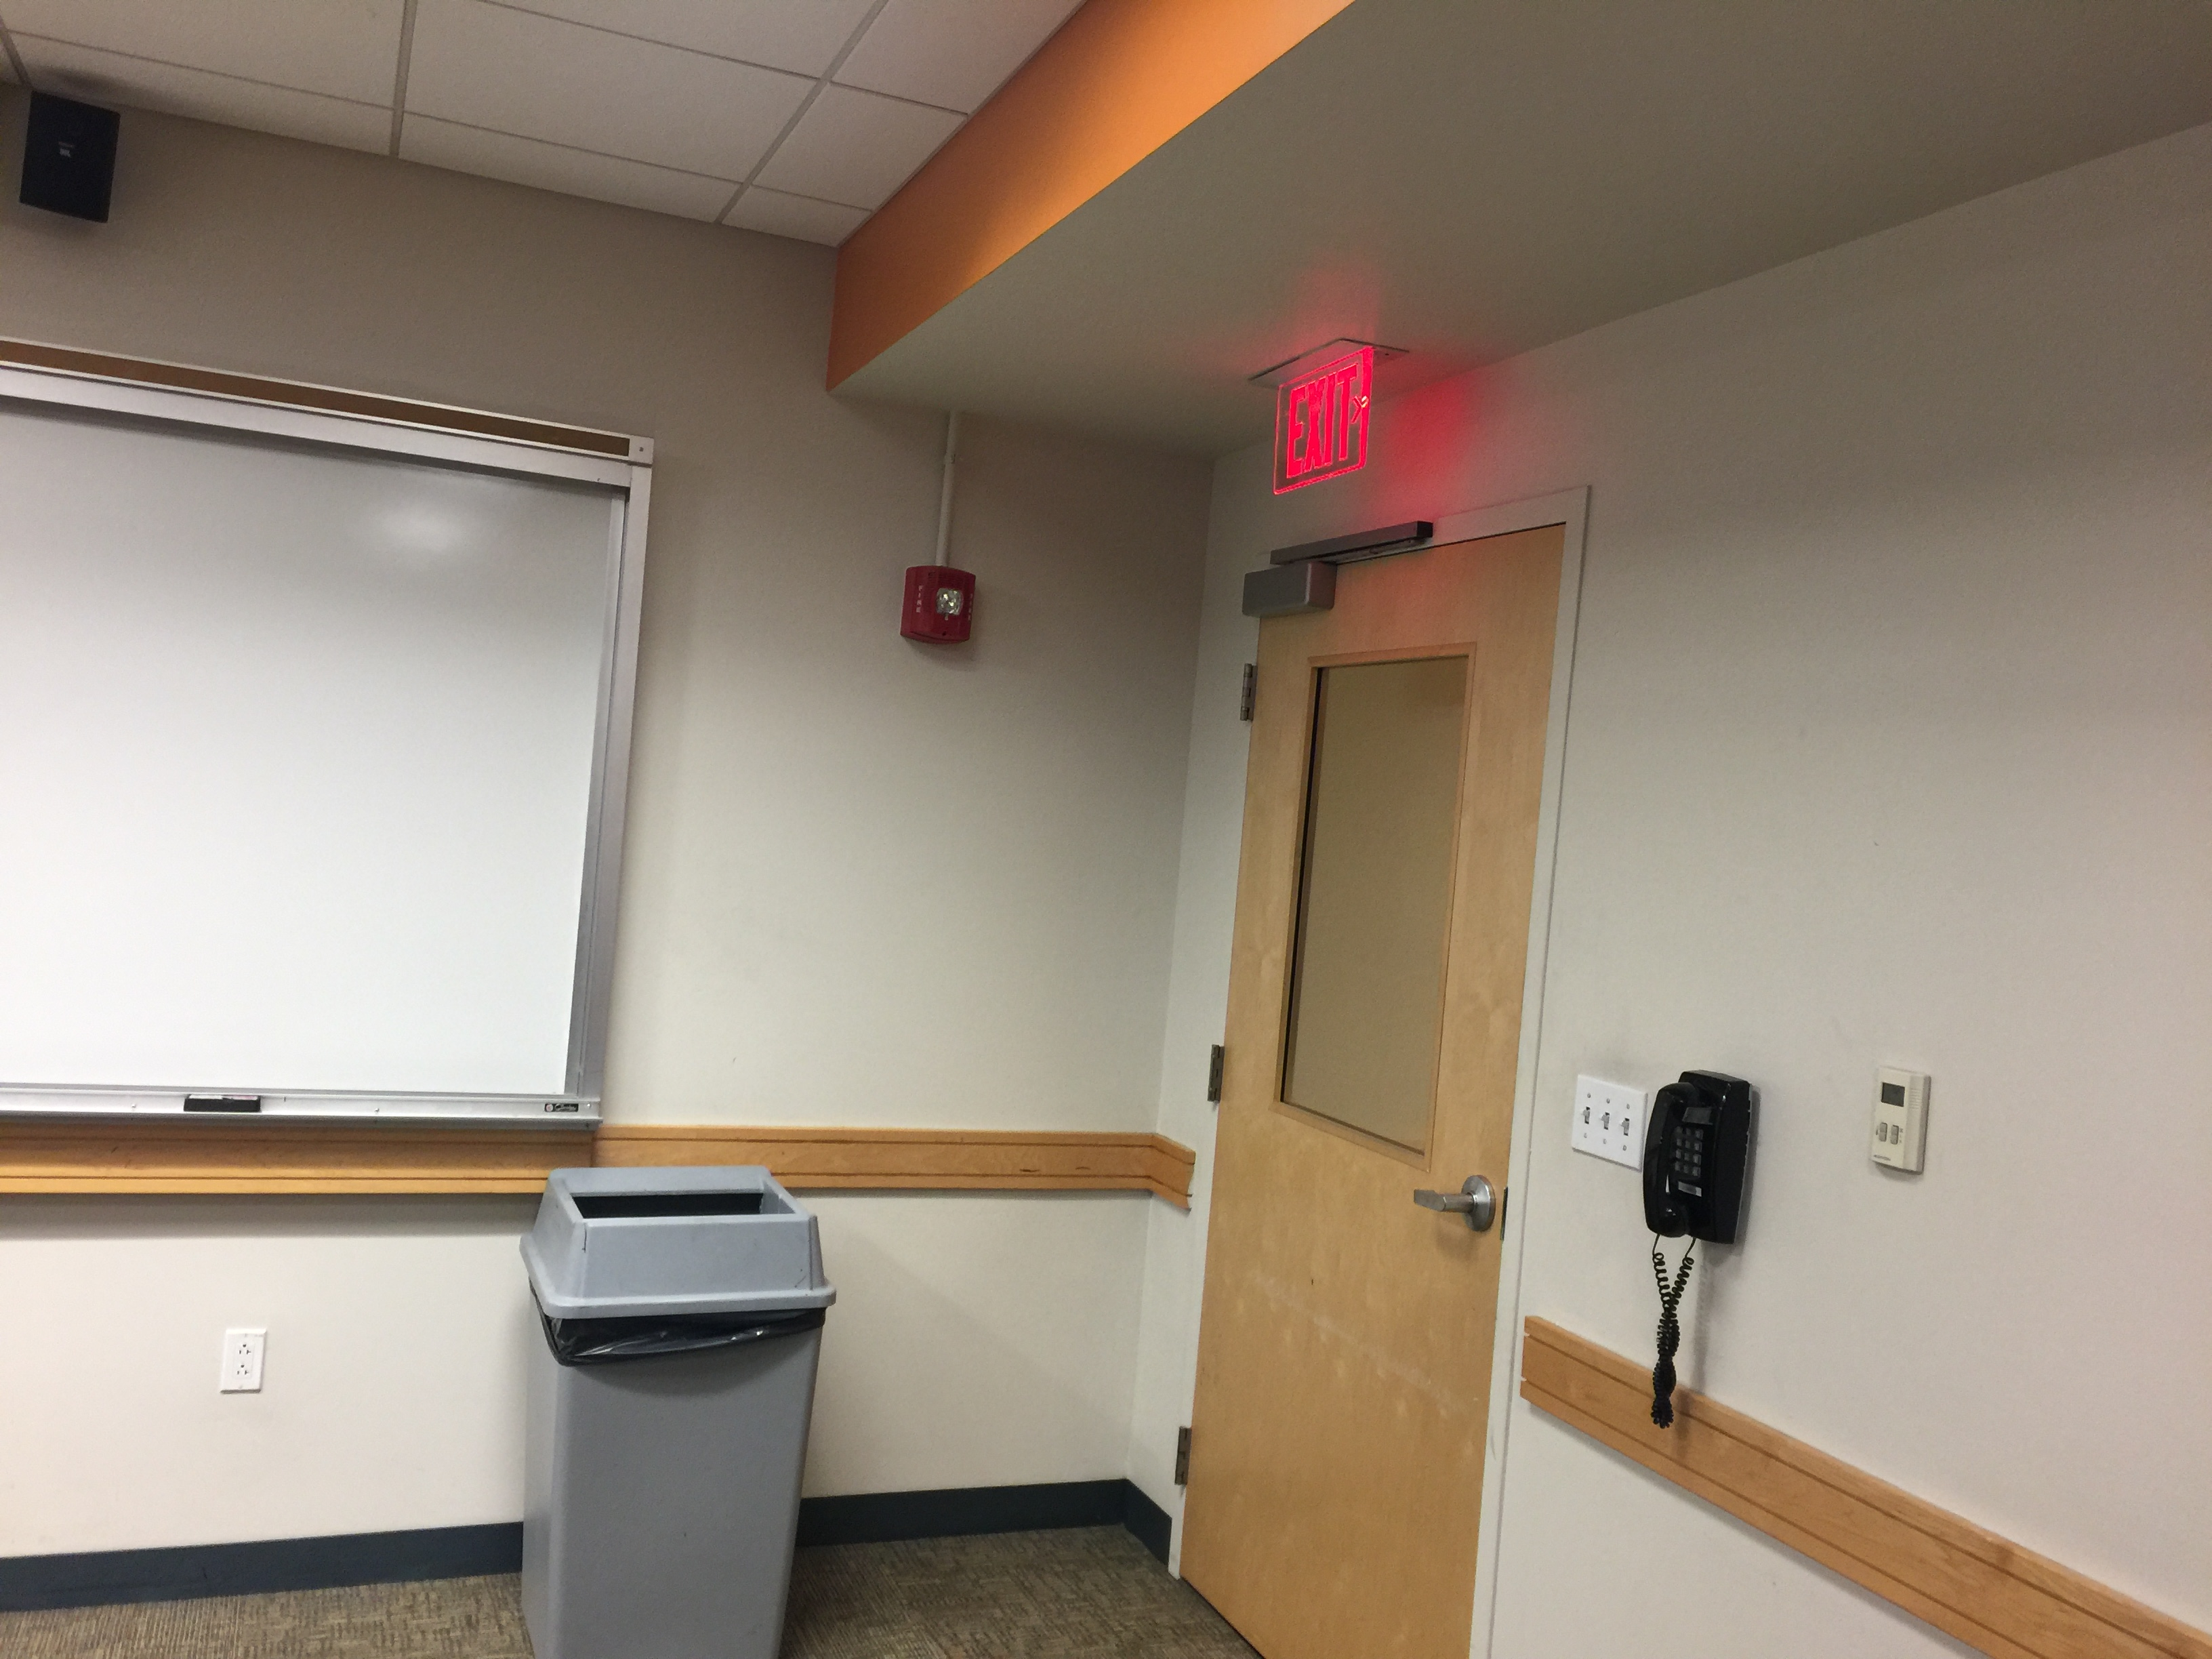exit sign: (1266, 342, 1378, 500)
